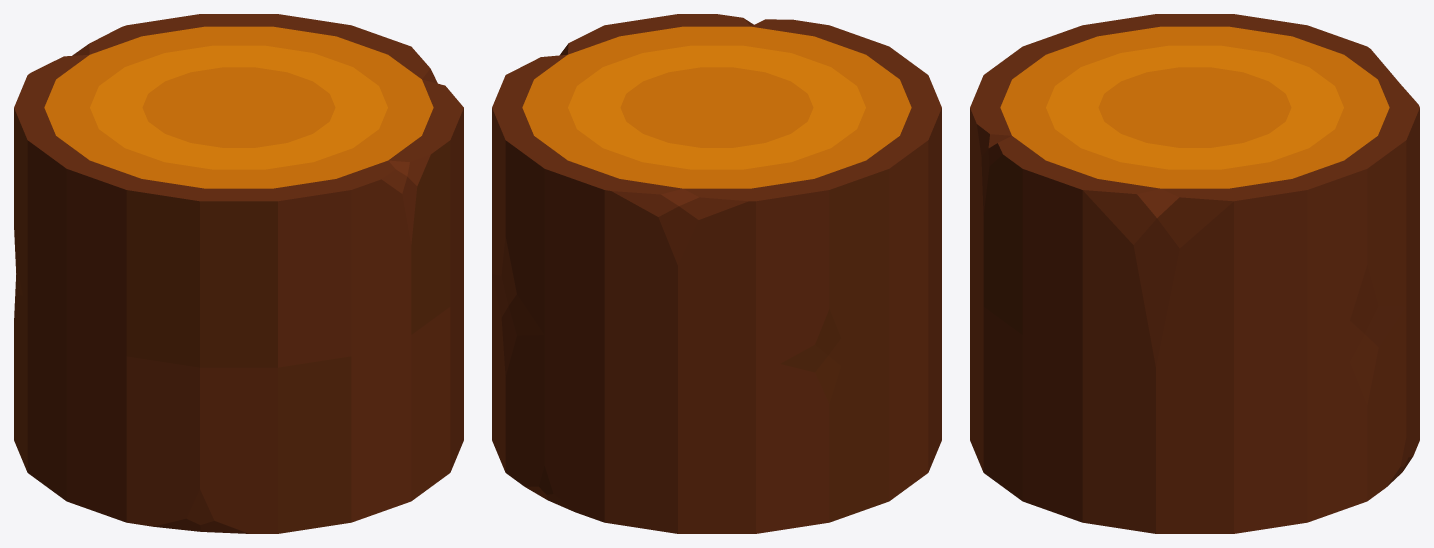
The model's file is Tree log_29.fbx.
The picture shows the model from 3 angles, left to right: view 1: azimuth 30°, elevation 25°; view 2: azimuth 150°, elevation 25°; view 3: azimuth 270°, elevation 25°; orthographic projection.
Parts seen in each view (by area): view 1: Circle.395; view 2: Circle.395; view 3: Circle.395.
Part boxes in pixels (x1,y1,x2,y2): Circle.395: (14, 14, 463, 533); Circle.395: (492, 14, 941, 533); Circle.395: (970, 14, 1419, 533).
Bounding box in the file's own units: 23.2 × 19.22 × 23.56.
